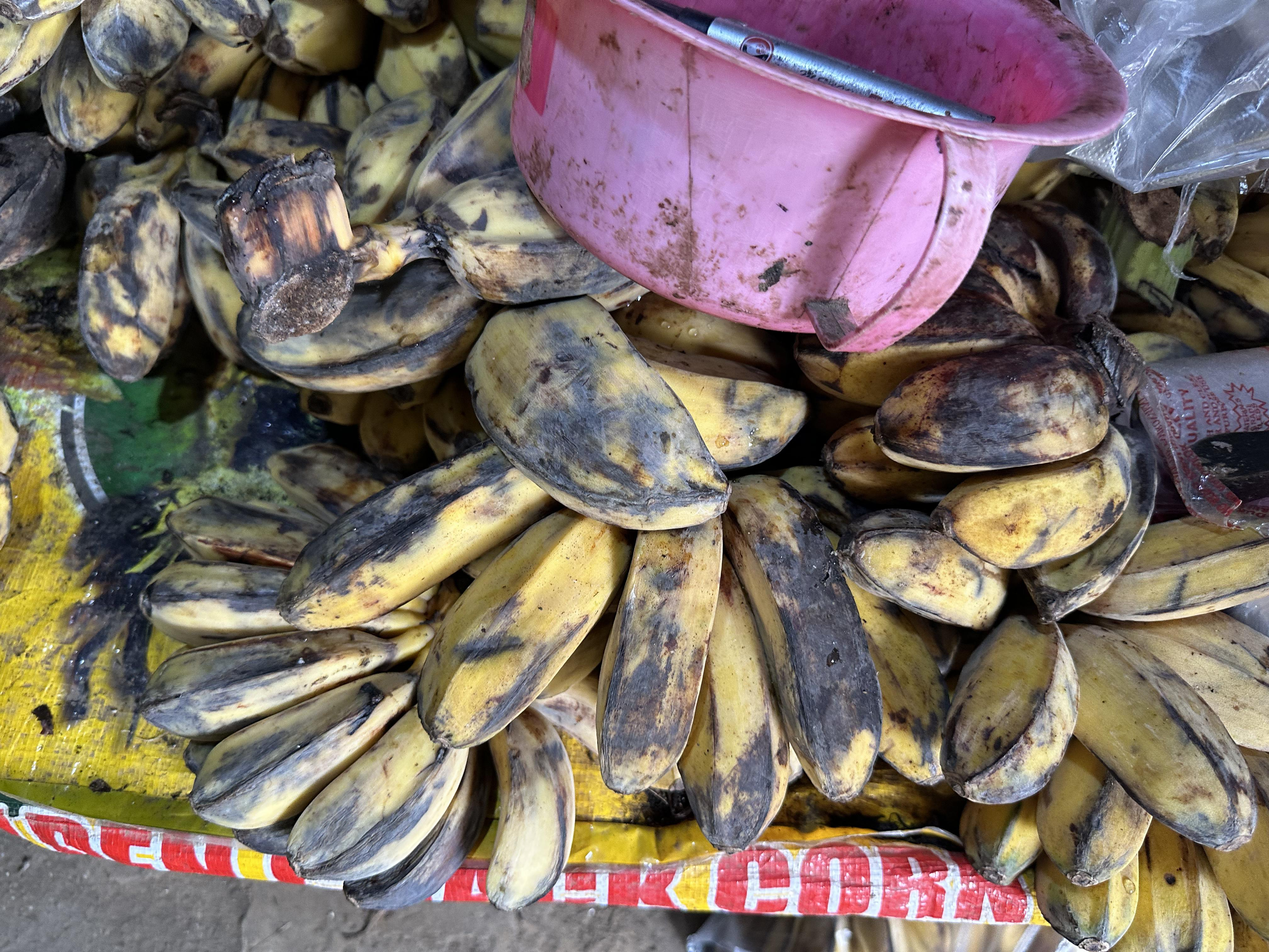overripe: (795, 202, 1157, 624)
ripe: (279, 443, 948, 849), (140, 445, 495, 909), (942, 517, 1269, 950), (465, 297, 807, 530), (342, 64, 630, 303), (0, 0, 272, 152), (230, 0, 475, 132)
